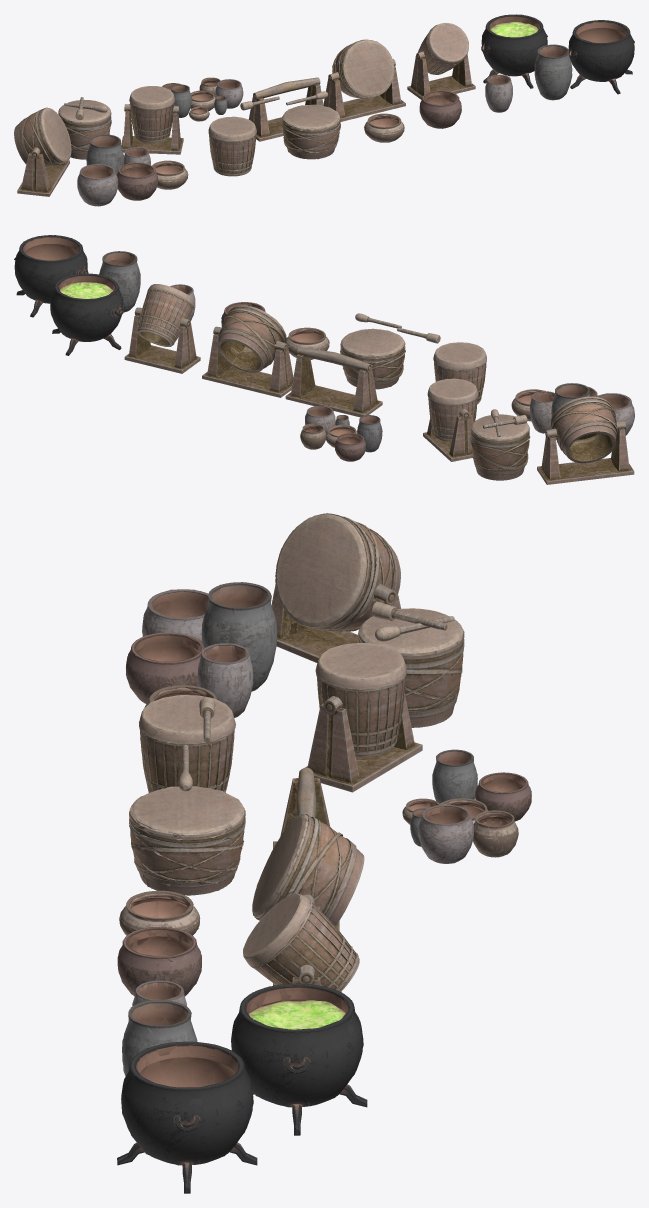
The model's file is Urns and Drums A.fbx.
The picture shows the model from 3 angles, top to bottom: view 1: azimuth 30°, elevation 25°; view 2: azimuth 150°, elevation 25°; view 3: azimuth 270°, elevation 25°; orthographic projection. The views are drawn at different scales.
Parts seen in each view (by area): view 1: Cylinder.161, Drum_1A4, Urn_Group_1A1, Cylinder.162, Cauldron_Empty_1A1, Cauldron_Filled_1A1, Urn_Group_1A1.002, Drum_1A2, Cylinder.163, Drum_1A1, Drum_1A3, Urn_Group_1A1.001 (+30 smaller); view 2: Cylinder.161, Cylinder.163, Drum_1A4, Cylinder.162, Drum_1A3, Cauldron_Filled_1A1, Drum_Holder_1A1, Cauldron_Empty_1A1, Drum_1A2, Drum_1A4.002, Urn_Group_1A2, Drum_1A1 (+24 smaller); view 3: Cylinder.161, Cauldron_Empty_1A1, Cylinder.162, Cauldron_Filled_1A1, Drum_1A2, Urn_Group_1A1, Cylinder.163, Urn_Group_1A1.002, Drum_1A1, Drum_1A4, Urn_Group_1A2, Urn_Group_1A1.001 (+25 smaller).
Part boxes in pixels (bbox=[...]): Cylinder.161: bbox=[14, 90, 183, 196]; Drum_1A4: bbox=[323, 39, 405, 121]; Urn_Group_1A1: bbox=[77, 134, 188, 206]; Cylinder.162: bbox=[14, 86, 179, 196]; Cauldron_Empty_1A1: bbox=[568, 20, 634, 93]; Cauldron_Filled_1A1: bbox=[481, 14, 547, 88]; Urn_Group_1A1.002: bbox=[77, 134, 187, 206]; Drum_1A2: bbox=[282, 105, 340, 159]; Cylinder.163: bbox=[14, 86, 180, 196]; Drum_1A1: bbox=[208, 116, 256, 176]; Drum_1A3: bbox=[407, 23, 475, 99]; Urn_Group_1A1.001: bbox=[77, 134, 187, 206]; Cylinder.161: bbox=[423, 378, 634, 484]; Cylinder.163: bbox=[427, 384, 625, 480]; Drum_1A4: bbox=[202, 305, 292, 397]; Cylinder.162: bbox=[425, 378, 627, 483]; Drum_1A3: bbox=[124, 284, 200, 373]; Cauldron_Filled_1A1: bbox=[50, 273, 123, 355]; Drum_Holder_1A1: bbox=[285, 349, 382, 416]; Cauldron_Empty_1A1: bbox=[14, 235, 88, 316]; Drum_1A2: bbox=[340, 329, 405, 389]; Drum_1A4.002: bbox=[213, 305, 288, 386]; Urn_Group_1A2: bbox=[300, 405, 382, 461]; Drum_1A1: bbox=[433, 342, 486, 403]; Cylinder.161: bbox=[271, 513, 464, 792]; Cauldron_Empty_1A1: bbox=[117, 1041, 257, 1193]; Cylinder.162: bbox=[276, 513, 464, 782]; Cauldron_Filled_1A1: bbox=[231, 983, 367, 1135]; Drum_1A2: bbox=[129, 786, 245, 895]; Urn_Group_1A1: bbox=[126, 582, 277, 717]; Cylinder.163: bbox=[275, 513, 464, 782]; Urn_Group_1A1.002: bbox=[126, 582, 276, 717]; Drum_1A1: bbox=[139, 695, 234, 792]; Drum_1A4: bbox=[252, 814, 363, 985]; Urn_Group_1A2: bbox=[402, 749, 531, 863]; Urn_Group_1A1.001: bbox=[126, 582, 276, 717].
Bounding box in the file's own units: 1481 × 169 × 453.
